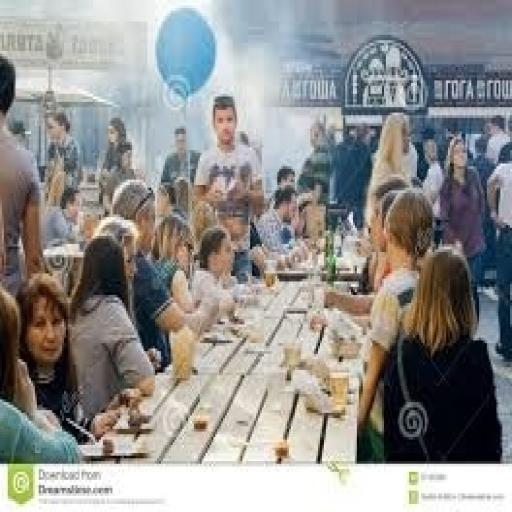eating: (378, 244, 502, 464), (64, 231, 157, 426), (0, 281, 83, 463), (190, 94, 266, 284), (0, 48, 47, 295), (188, 222, 241, 322), (254, 182, 305, 263)
